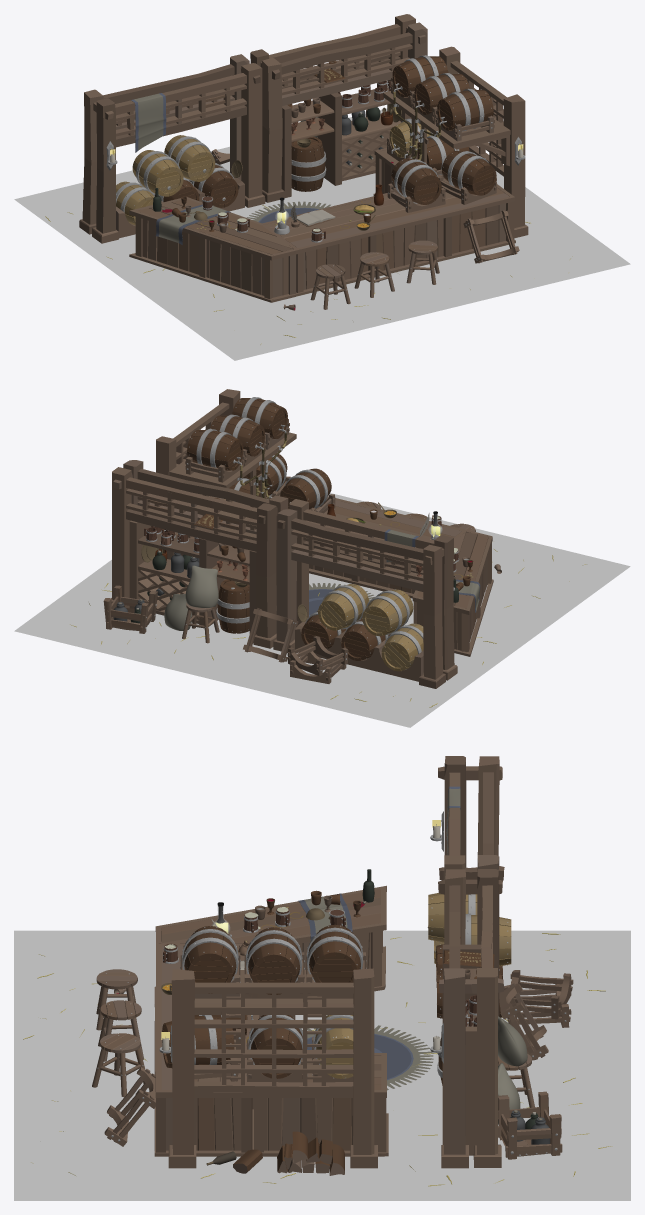
File: bar counter.fbx
3 views of the same model, one above another, from view 1: azimuth 30°, elevation 25°; view 2: azimuth 150°, elevation 25°; view 3: azimuth 270°, elevation 25° (orthographic). The views are drawn at different scales.
Visible parts, largest first — view 1: ground, middle bar, right bar, Plane.003, Cube.059, Cube.071, Cube.061, Plane.002, Cube.002, Plane.007, Cube.114, Cube.075 (+38 smaller); view 2: ground, Cube.114, Cube.098, Cube.112, Cube.063, Cube.061, Cube.117, Plane.003, Cube.111, Cube.075, Cube.107, Cube.121 (+36 smaller); view 3: ground, left bar, Cube.002, Cube.069, Cube.004, Cube.063, Plane.002, middle bar, Cube.018, Cube.019, Cube.084, Circle.032 (+53 smaller).
Boxes of the visible parts, x1=… form: ground: x1=14, y1=108, x2=630, y2=360; middle bar: x1=303, y1=203, x2=505, y2=289; right bar: x1=142, y1=219, x2=288, y2=297; Plane.003: x1=266, y1=180, x2=508, y2=247; Cube.059: x1=241, y1=63, x2=262, y2=198; Cube.071: x1=262, y1=58, x2=282, y2=193; Cube.061: x1=96, y1=98, x2=115, y2=233; Plane.002: x1=137, y1=199, x2=293, y2=254; Cube.002: x1=503, y1=94, x2=525, y2=227; Plane.007: x1=262, y1=179, x2=514, y2=254; Cube.114: x1=82, y1=89, x2=103, y2=224; Cube.075: x1=281, y1=32, x2=412, y2=74; ground: x1=14, y1=493, x2=630, y2=727; Cube.114: x1=423, y1=544, x2=442, y2=679; Cube.098: x1=256, y1=503, x2=276, y2=637; Cube.112: x1=276, y1=509, x2=297, y2=642; Cube.063: x1=112, y1=467, x2=131, y2=599; Cube.061: x1=434, y1=535, x2=454, y2=669; Cube.117: x1=291, y1=518, x2=423, y2=560; Plane.003: x1=266, y1=495, x2=461, y2=538; Cube.111: x1=126, y1=488, x2=256, y2=540; Cube.075: x1=137, y1=468, x2=269, y2=507; Cube.107: x1=126, y1=477, x2=256, y2=519; Cube.121: x1=291, y1=529, x2=423, y2=580; ground: x1=14, y1=930, x2=630, y2=1200; left bar: x1=264, y1=1098, x2=376, y2=1150; Cube.002: x1=171, y1=969, x2=194, y2=1154; Cube.069: x1=444, y1=968, x2=465, y2=1154; Cube.004: x1=353, y1=968, x2=374, y2=1154; Cube.063: x1=477, y1=968, x2=497, y2=1154; Plane.002: x1=161, y1=889, x2=380, y2=943; middle bar: x1=166, y1=1098, x2=252, y2=1150; Cube.018: x1=195, y1=982, x2=353, y2=993; Cube.019: x1=194, y1=1081, x2=353, y2=1093; Cube.084: x1=442, y1=1026, x2=476, y2=1155; Circle.032: x1=307, y1=1030, x2=420, y2=1083.
Size of the model in its own units: 903 by 317 by 871.
